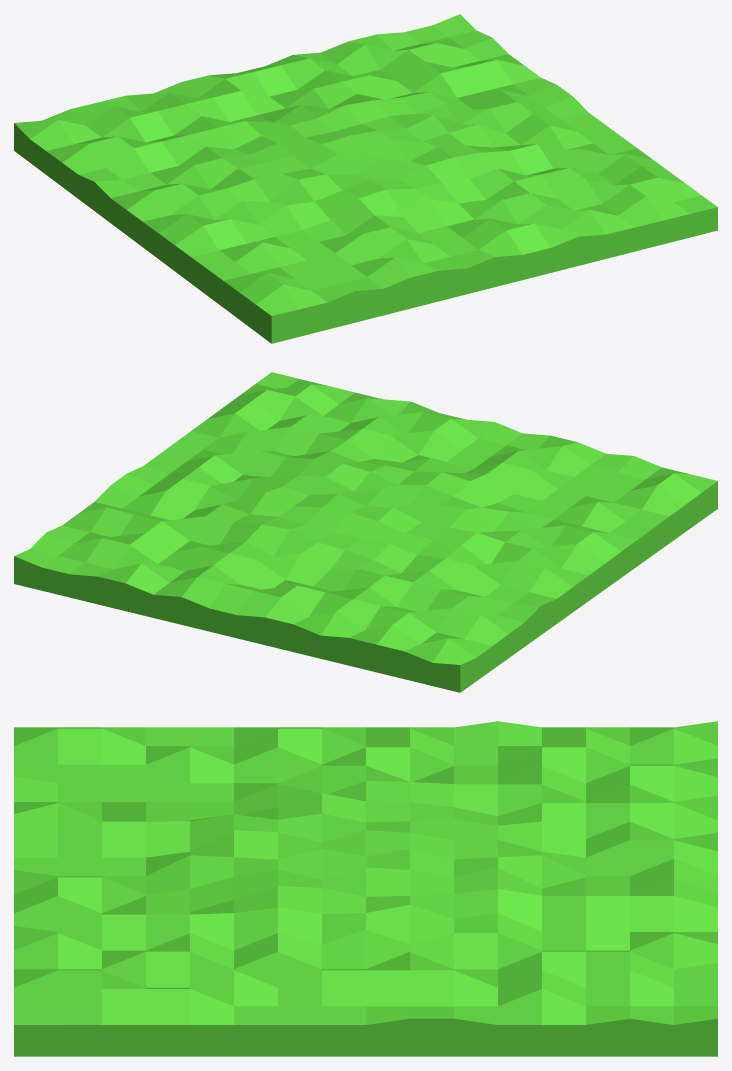
File: Ground.fbx
3 renders of one model, top to bottom at view 1: azimuth 30°, elevation 25°; view 2: azimuth 150°, elevation 25°; view 3: azimuth 270°, elevation 25°, orthographic. The views are drawn at different scales.
Visible parts, largest first — view 1: Cube; view 2: Cube; view 3: Cube.
Part boxes in pixels (box(x1,y1,x2,y2)): Cube: box(14, 14, 717, 343); Cube: box(14, 372, 717, 692); Cube: box(14, 721, 717, 1056).
Size of the model in its own units: 600 by 61.52 by 600.
